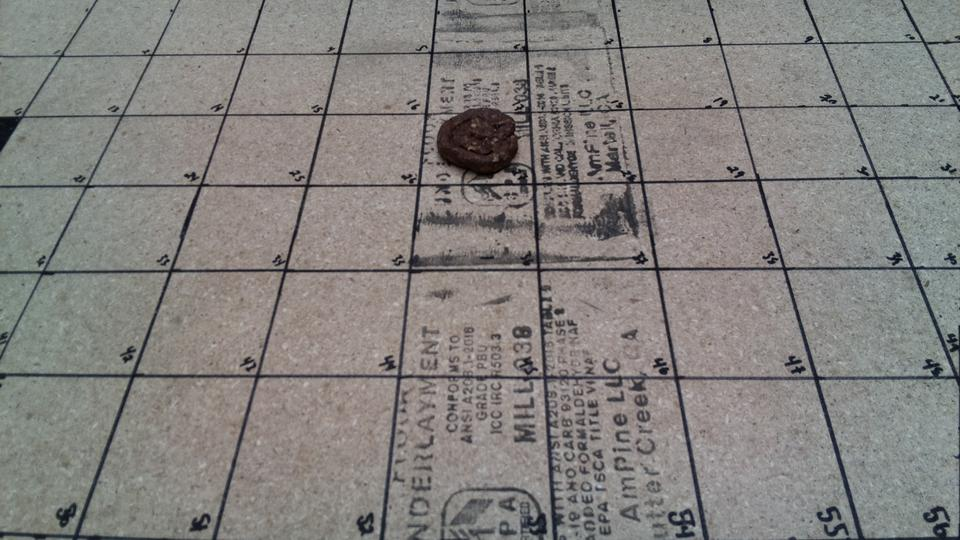poop: (435, 105, 520, 177)
